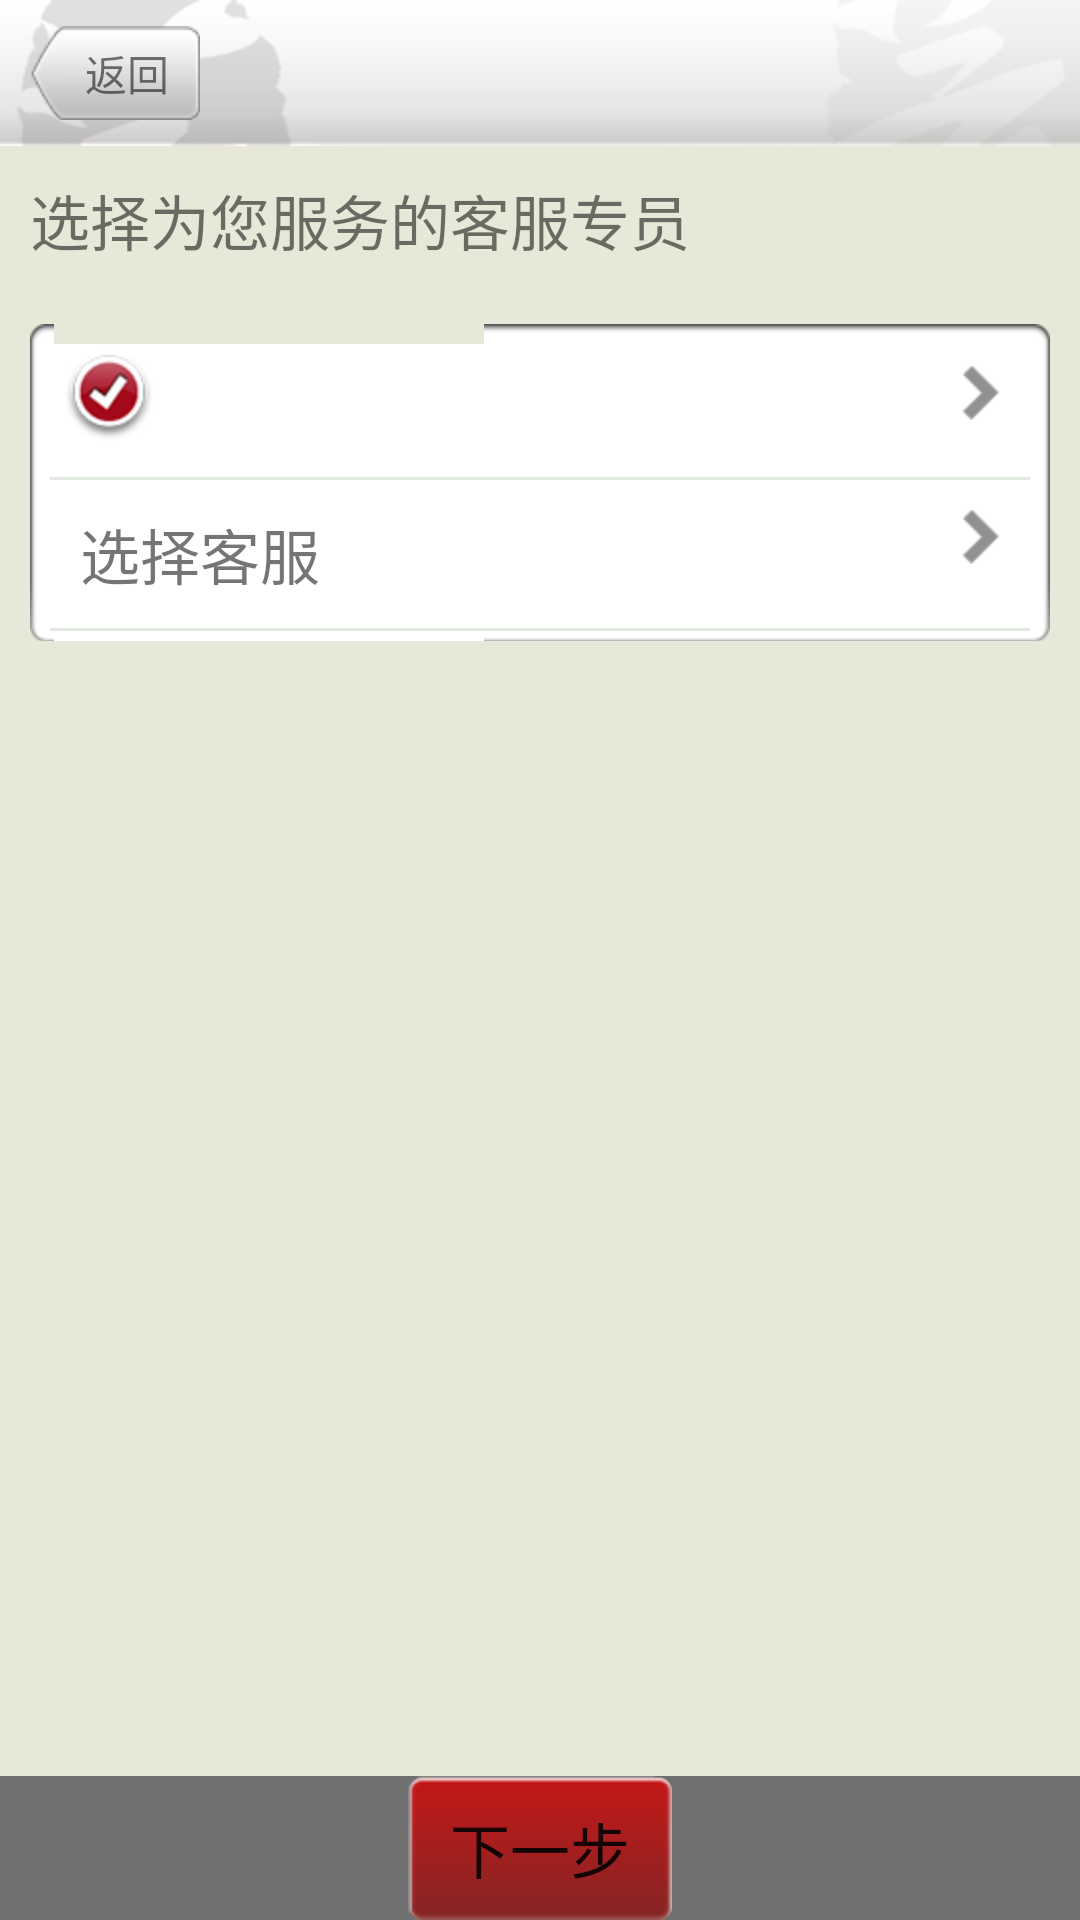

Named icons in this screenshot (1080 x 1920) and their bounding boxes, (x1, y1, x2, y2):
chevron: (963, 366, 999, 420), (963, 510, 999, 564)
radio checked: (70, 355, 148, 436)
